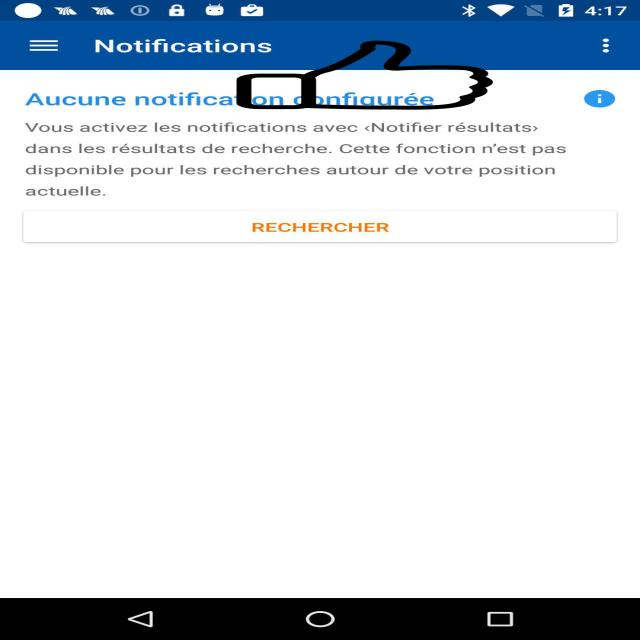privacy zuckering: (233, 40, 496, 110)
